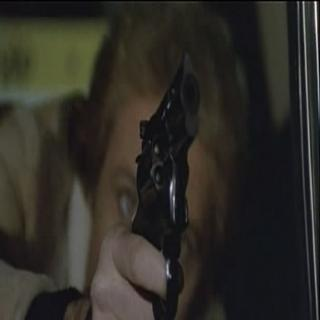gun: (104, 63, 213, 319)
